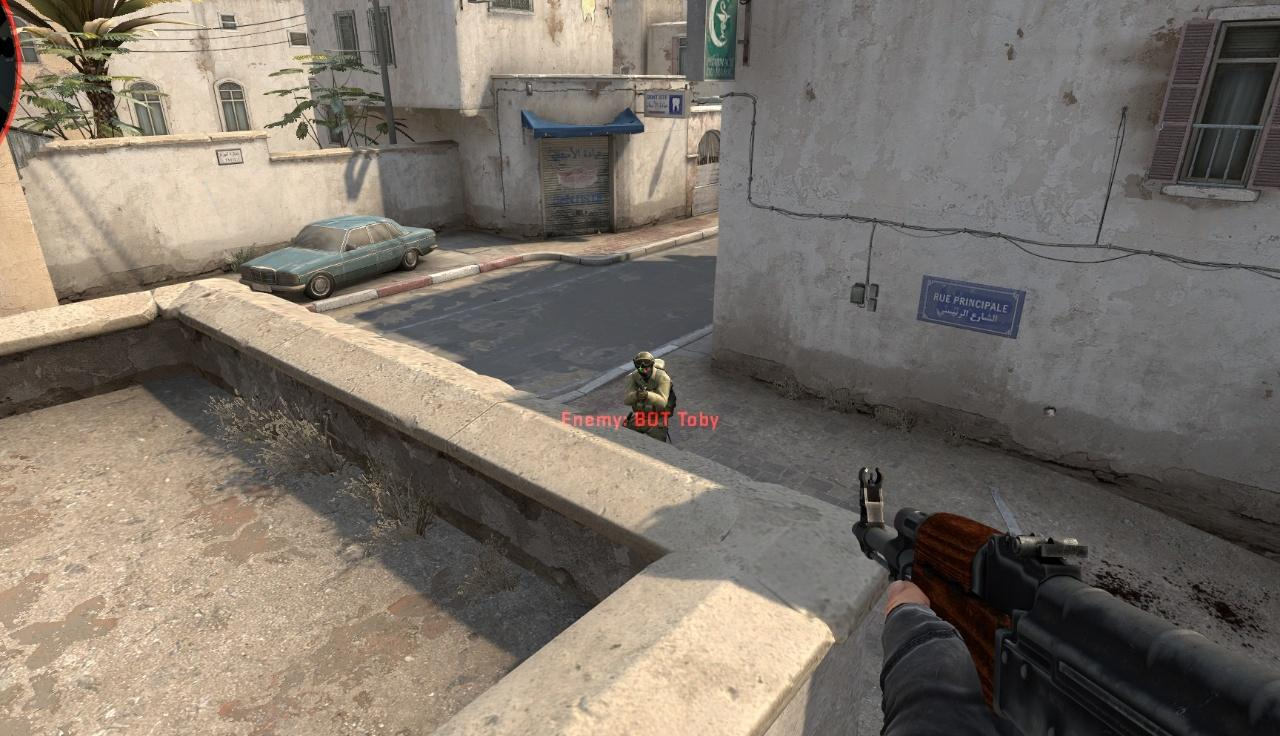ct: (624, 351, 675, 445)
cthead: (634, 352, 654, 378)
rifle: (853, 466, 1280, 736)
